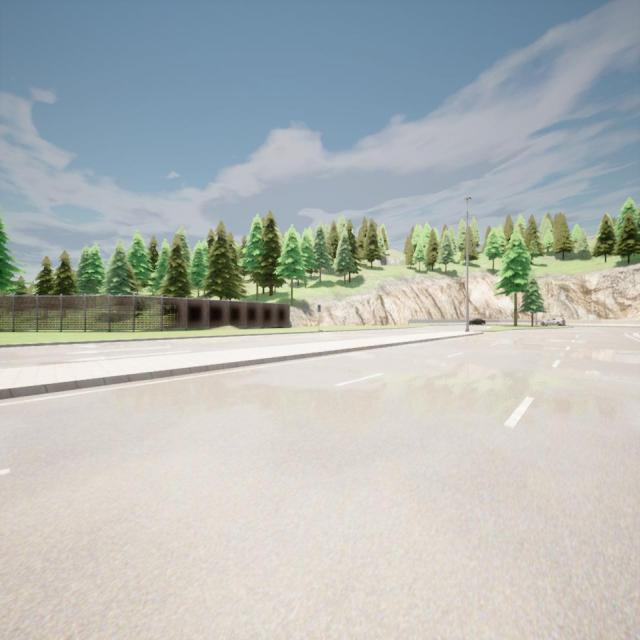Traffic_Signs: (317, 304, 321, 312)
Vehicle: (540, 317, 566, 326), (468, 318, 486, 325)
